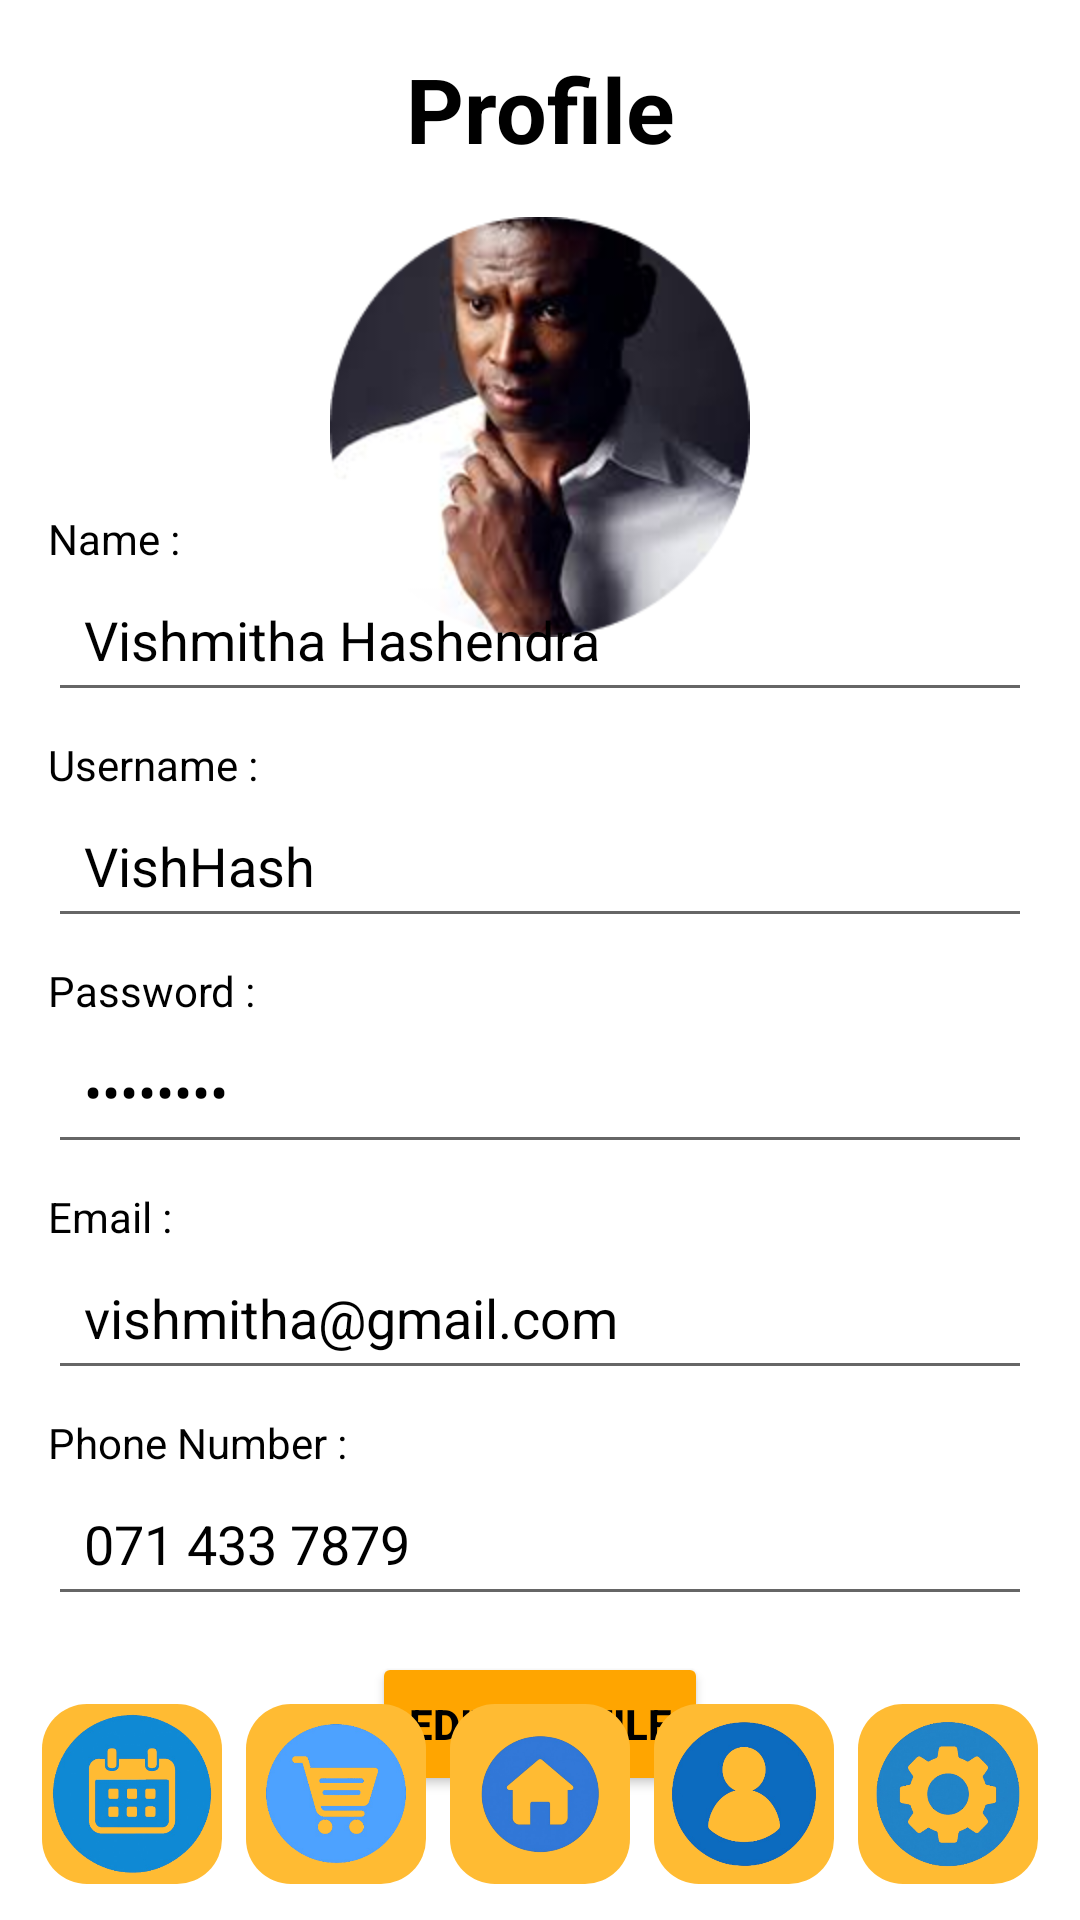

Named icons in this screenshot (1080*1920) and their centers, (x,y):
Cart: (336,1794)
Home: (540,1794)
Reservation: (132,1794)
Setting: (948,1794)
